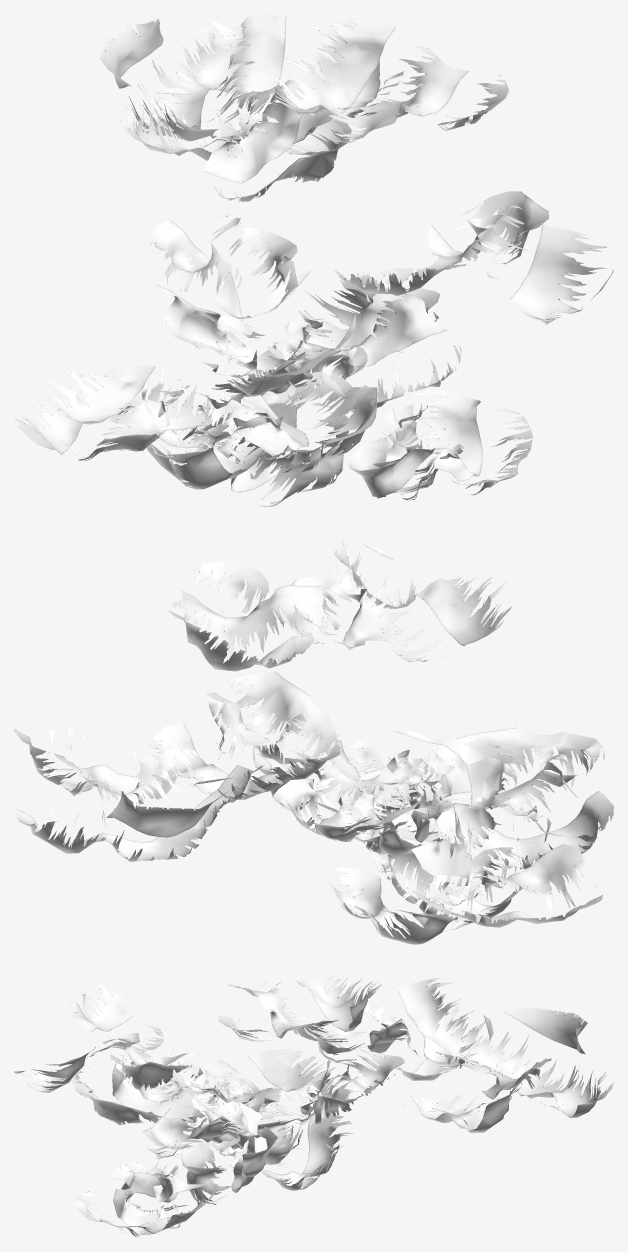
File: SM_ENV_KNFRST_Leaf_GroupGb.FBX
3 renders of one model, top to bottom at view 1: azimuth 30°, elevation 25°; view 2: azimuth 150°, elevation 25°; view 3: azimuth 270°, elevation 25°, orthographic. The views are drawn at different scales.
Visible parts, largest first — view 1: SM_ENV_KNFRST_Leaf_GroupGb; view 2: SM_ENV_KNFRST_Leaf_GroupGb; view 3: SM_ENV_KNFRST_Leaf_GroupGb.
Part boxes in pixels (box(x1,y1,x2,y2)): SM_ENV_KNFRST_Leaf_GroupGb: box(14, 14, 613, 507); SM_ENV_KNFRST_Leaf_GroupGb: box(14, 540, 613, 944); SM_ENV_KNFRST_Leaf_GroupGb: box(14, 975, 613, 1237).
Size of the model in its own units: 11577 by 7782 by 15507.
